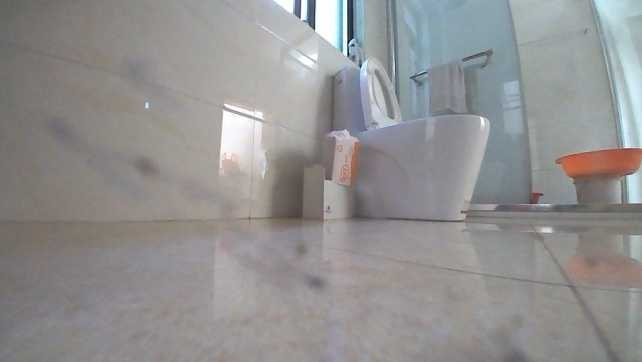toilet: (329, 53, 496, 223)
